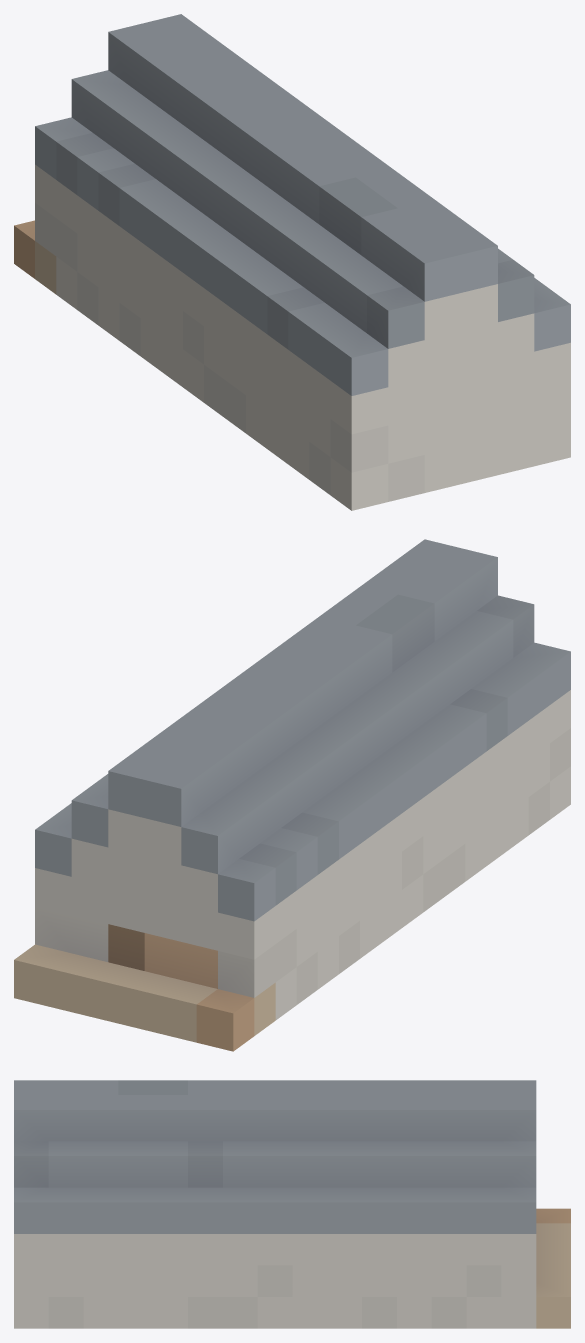
File: coal_mine.lite.glb
3 renders of one model, top to bottom at view 1: azimuth 30°, elevation 25°; view 2: azimuth 150°, elevation 25°; view 3: azimuth 270°, elevation 25°, orthographic. The views are drawn at different scales.
Visible parts, largest first — view 1: coal_mine; view 2: coal_mine; view 3: coal_mine.
Boxes of the visible parts, x1,y1,x2,y2 form: coal_mine: (14, 14, 570, 510); coal_mine: (14, 539, 570, 1051); coal_mine: (14, 1080, 570, 1328).
Size of the model in its own units: 3 by 3 by 8.
